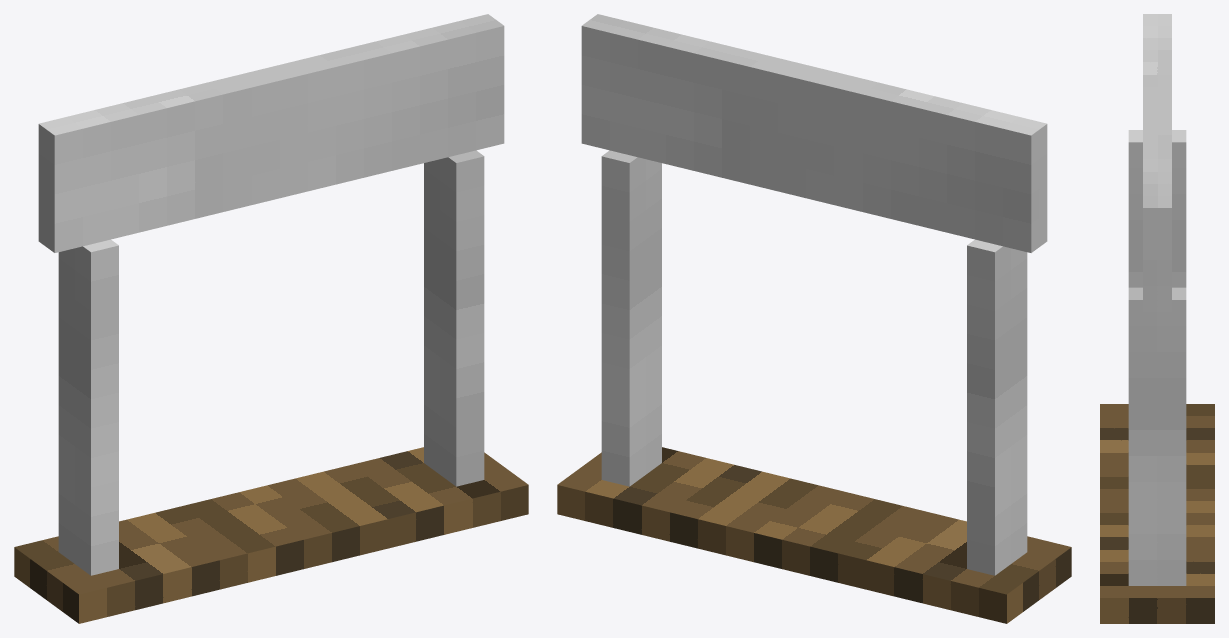
Rendered from rail_node_vertical.obj.
3 views of the same model, side by side, from view 1: azimuth 30°, elevation 25°; view 2: azimuth 150°, elevation 25°; view 3: azimuth 270°, elevation 25° (orthographic). The views are drawn at different scales.
Parts seen in each view (by area): view 1: cube; view 2: cube; view 3: cube.
Boxes of the visible parts, x1,y1,x2,y2 form: cube: [14, 14, 528, 623]; cube: [557, 14, 1071, 623]; cube: [1100, 14, 1214, 623].
Bounding box in the file's own units: 1 × 1 × 0.25.
2 materials, 2 textured.
